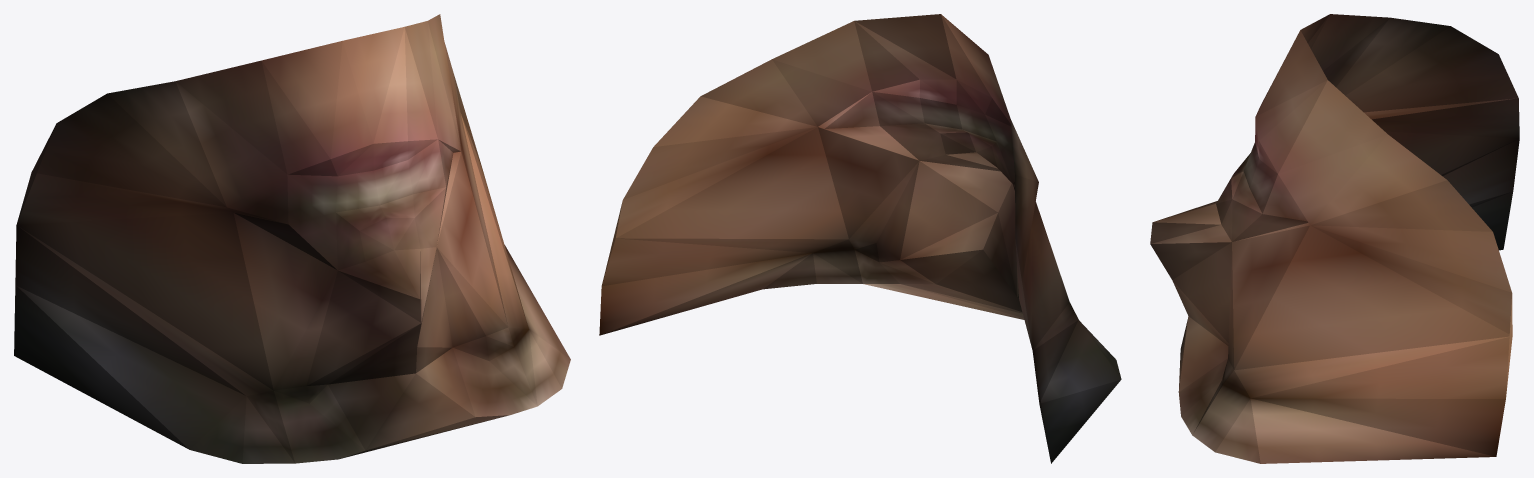
The model's file is fake_38831.obj.
3 views of the same model, side by side, from view 1: azimuth 30°, elevation 25°; view 2: azimuth 150°, elevation 25°; view 3: azimuth 270°, elevation 25° (orthographic). The views are drawn at different scales.
Size of the model in its own units: 131 by 94 by 92.28.
